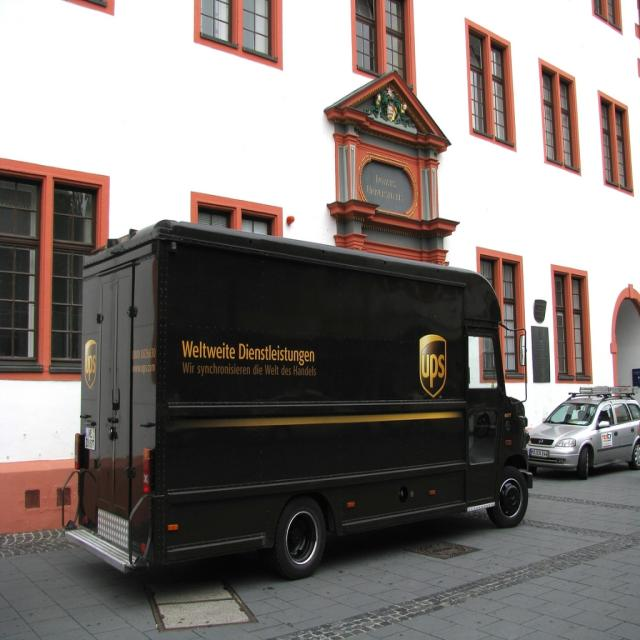ups: (421, 335, 448, 399), (85, 341, 99, 389)
